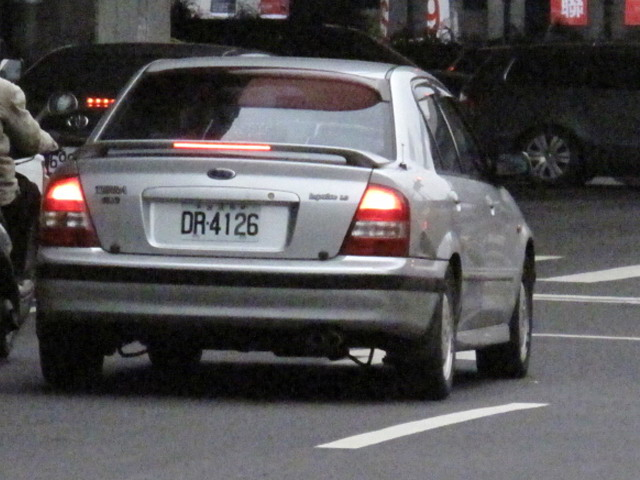plate: (177, 198, 261, 243)
